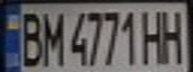1: (118, 7, 142, 65)
4: (66, 7, 87, 66)
7: (84, 7, 106, 66), (103, 7, 124, 66)
B: (15, 8, 45, 68)
H: (157, 6, 190, 65), (139, 7, 169, 65)
M: (39, 7, 66, 68)
